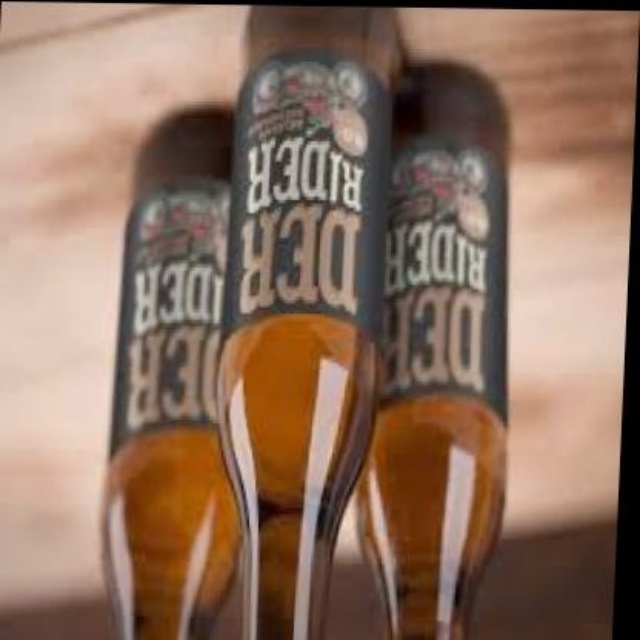trash: (105, 8, 506, 638), (218, 8, 400, 638), (357, 62, 506, 638), (105, 105, 242, 638)
